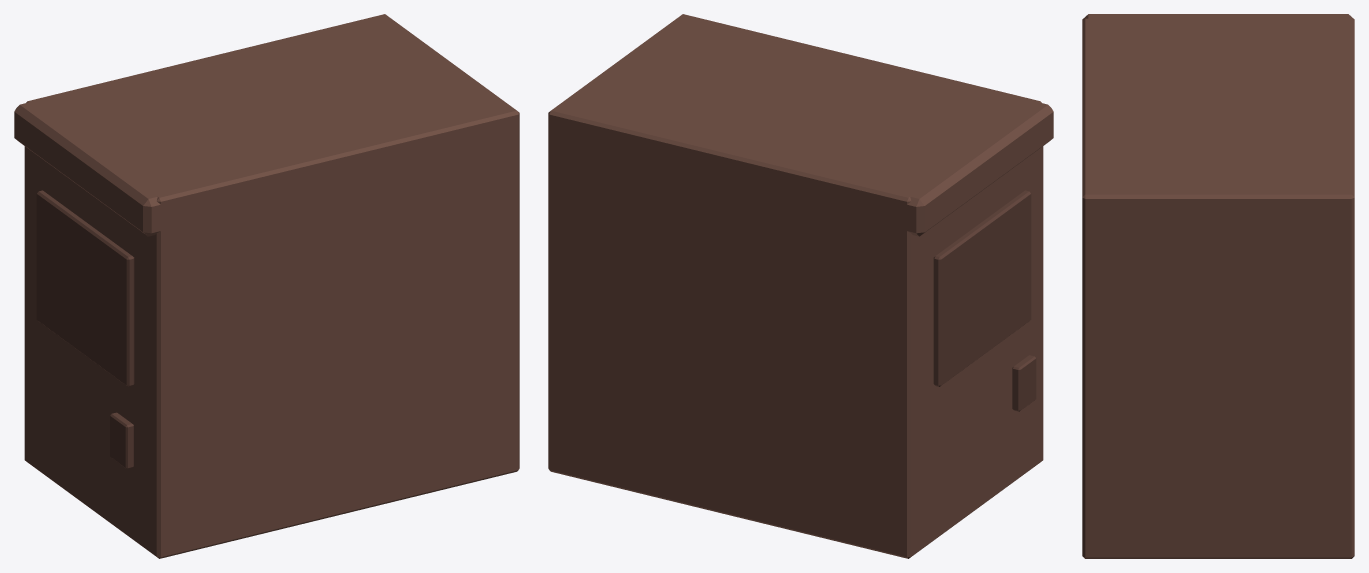
Rendered from pupitre_couloir.glb.
3 renders of one model, left to right at view 1: azimuth 30°, elevation 25°; view 2: azimuth 150°, elevation 25°; view 3: azimuth 270°, elevation 25°, orthographic.
Visible parts, largest first — view 1: pupitre_couloir; view 2: pupitre_couloir; view 3: pupitre_couloir.
Boxes of the visible parts, left/top/right/bottom form: pupitre_couloir: left=14, top=14, right=519, bottom=558; pupitre_couloir: left=548, top=14, right=1053, bottom=558; pupitre_couloir: left=1082, top=14, right=1354, bottom=558.
Bounding box in the file's own units: 1.25 × 1.15 × 0.78.
Materials: 1 (1 with a texture image).
